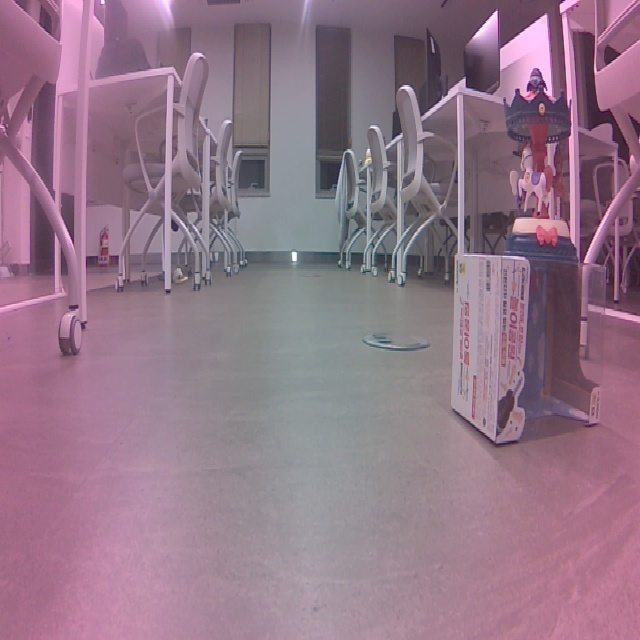목적지: (498, 64, 585, 259)
